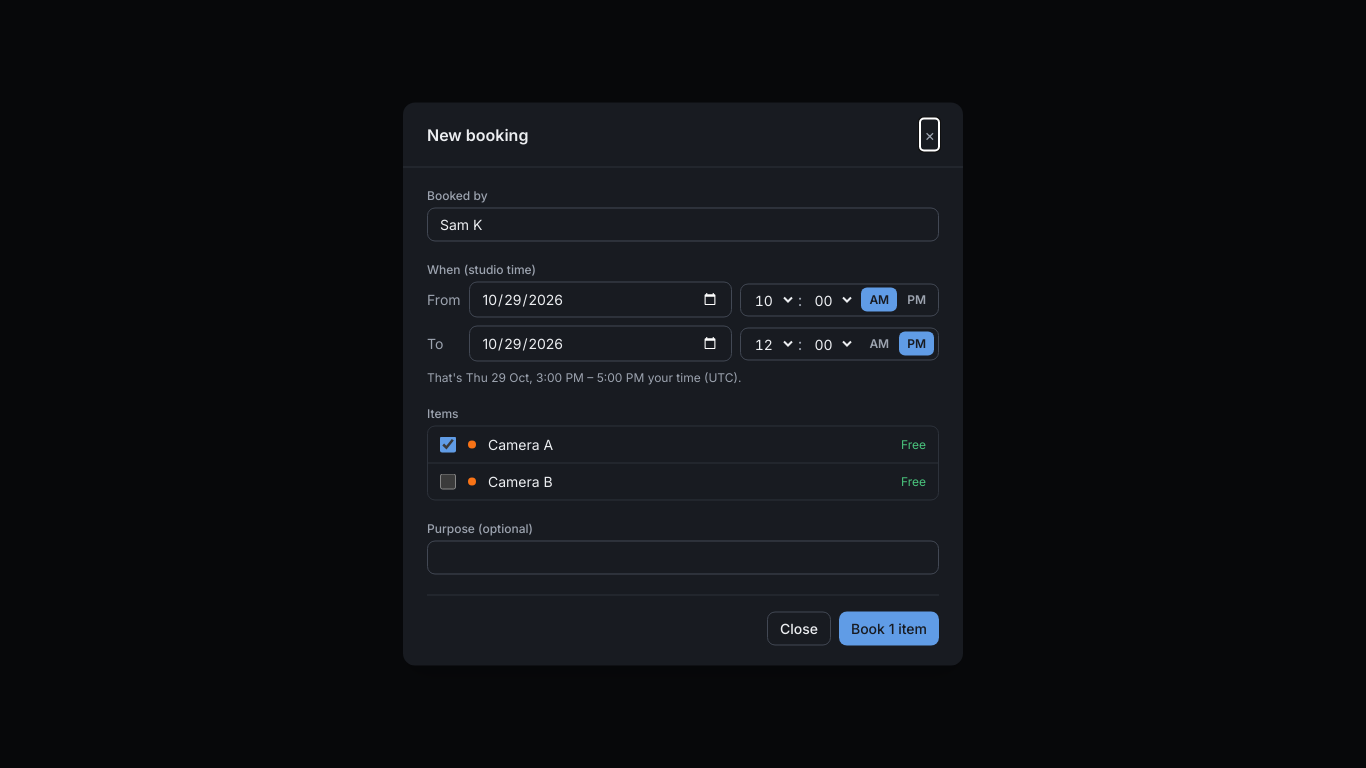
new booking › keeps the form filled in when the server can't be reached
Step 1. Type "Interview" into the field named "Purpose" → (683, 558), box [427,540,939,574]
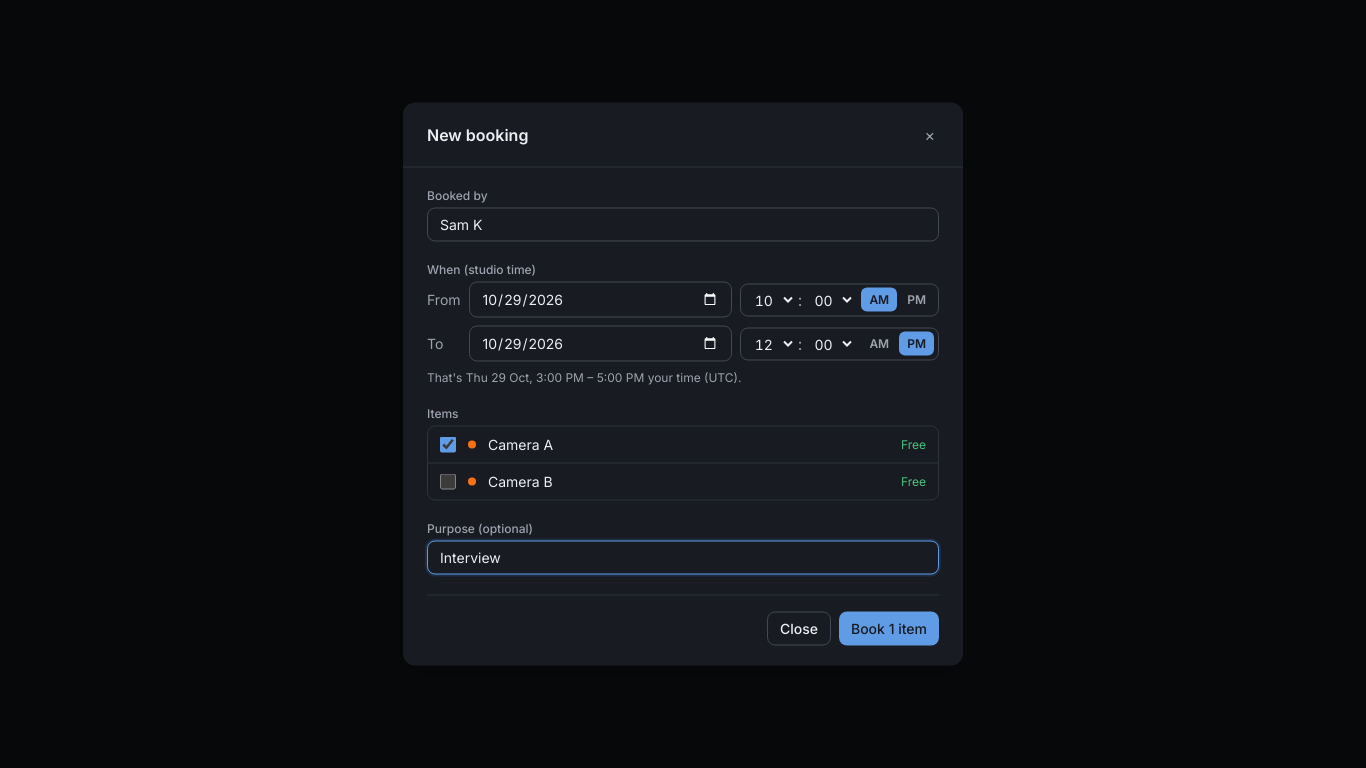
Step 2. Click the button "Book 1 item" → (889, 628), box [839,612,939,646]
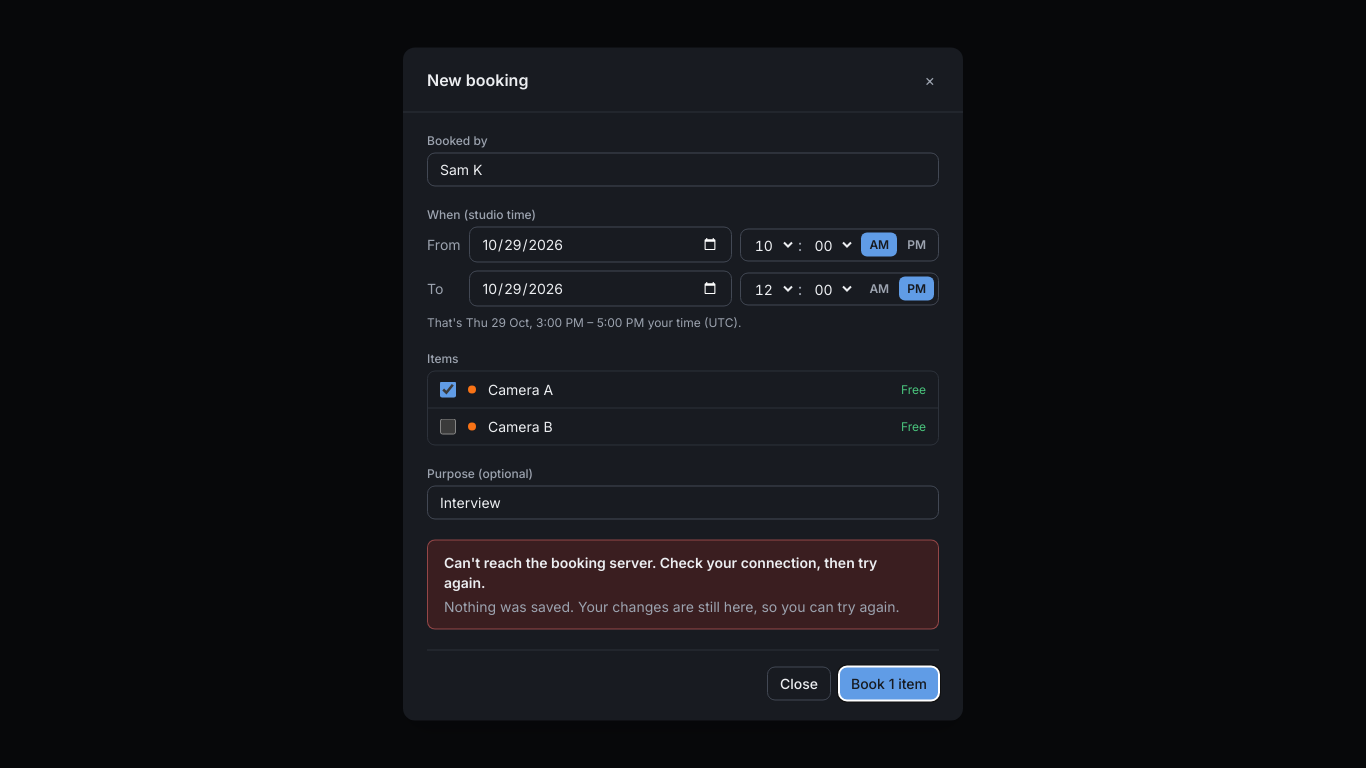
Expected: the message shows "Can't reach the booking server", [444,554,877,590]
Expected: the message shows "Your changes are still here", [444,598,900,614]
